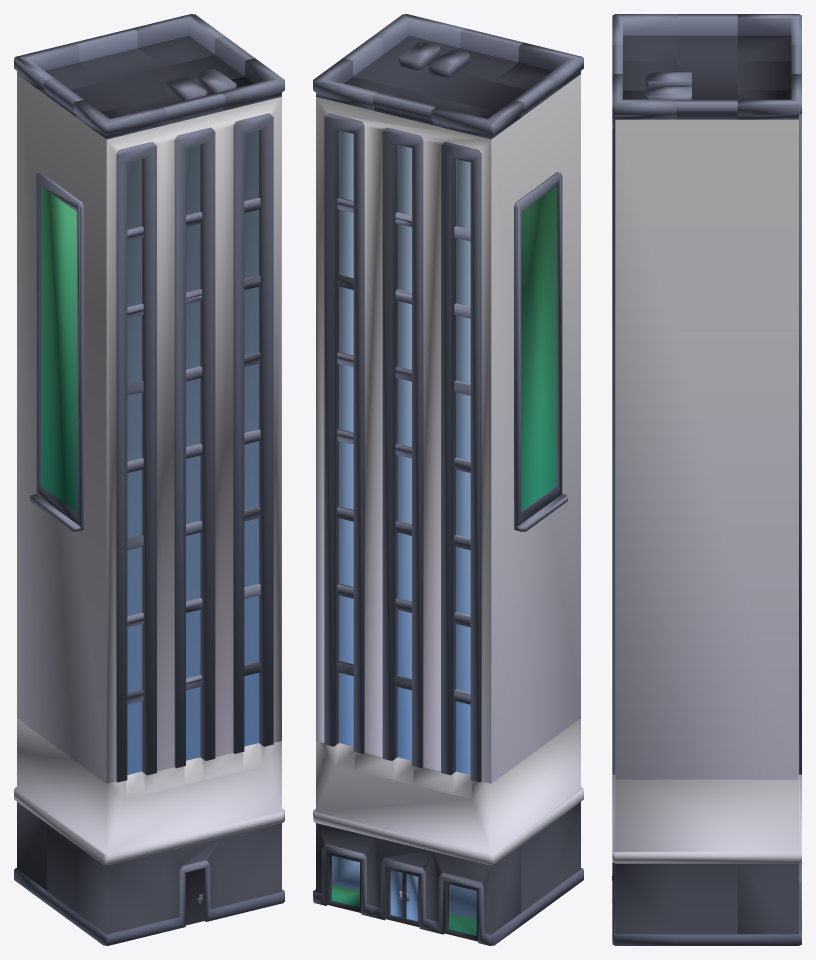
The model's file is building-skyscraper-e_lev1.glb.
3 renders of one model, left to right at view 1: azimuth 30°, elevation 25°; view 2: azimuth 150°, elevation 25°; view 3: azimuth 270°, elevation 25°, orthographic. The views are drawn at different scales.
Parts seen in each view (by area): view 1: building-skyscraper-e_lev1; view 2: building-skyscraper-e_lev1; view 3: building-skyscraper-e_lev1.
Boxes of the visible parts, left/top/right/bottom form: building-skyscraper-e_lev1: left=14, top=14, right=284, bottom=945; building-skyscraper-e_lev1: left=313, top=14, right=583, bottom=945; building-skyscraper-e_lev1: left=612, top=14, right=801, bottom=945.
Size of the model in its own units: 2.46 by 10.2 by 2.09.
Materials: 1 (1 with a texture image).
